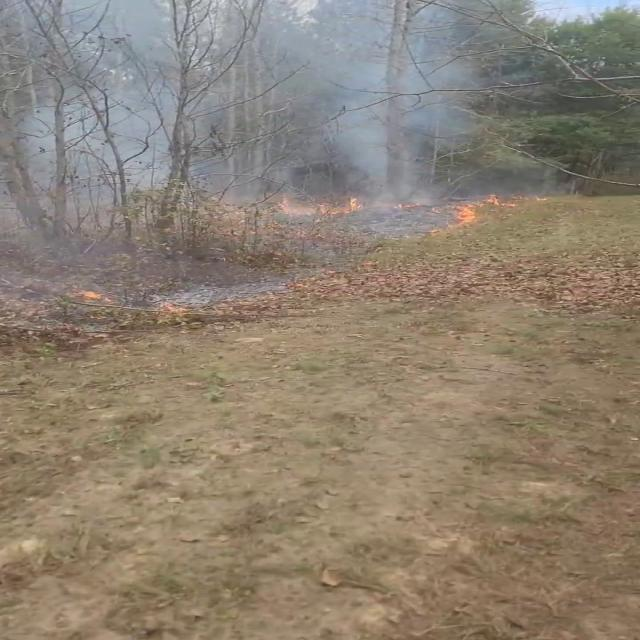Smoke: (123, 0, 521, 223)
